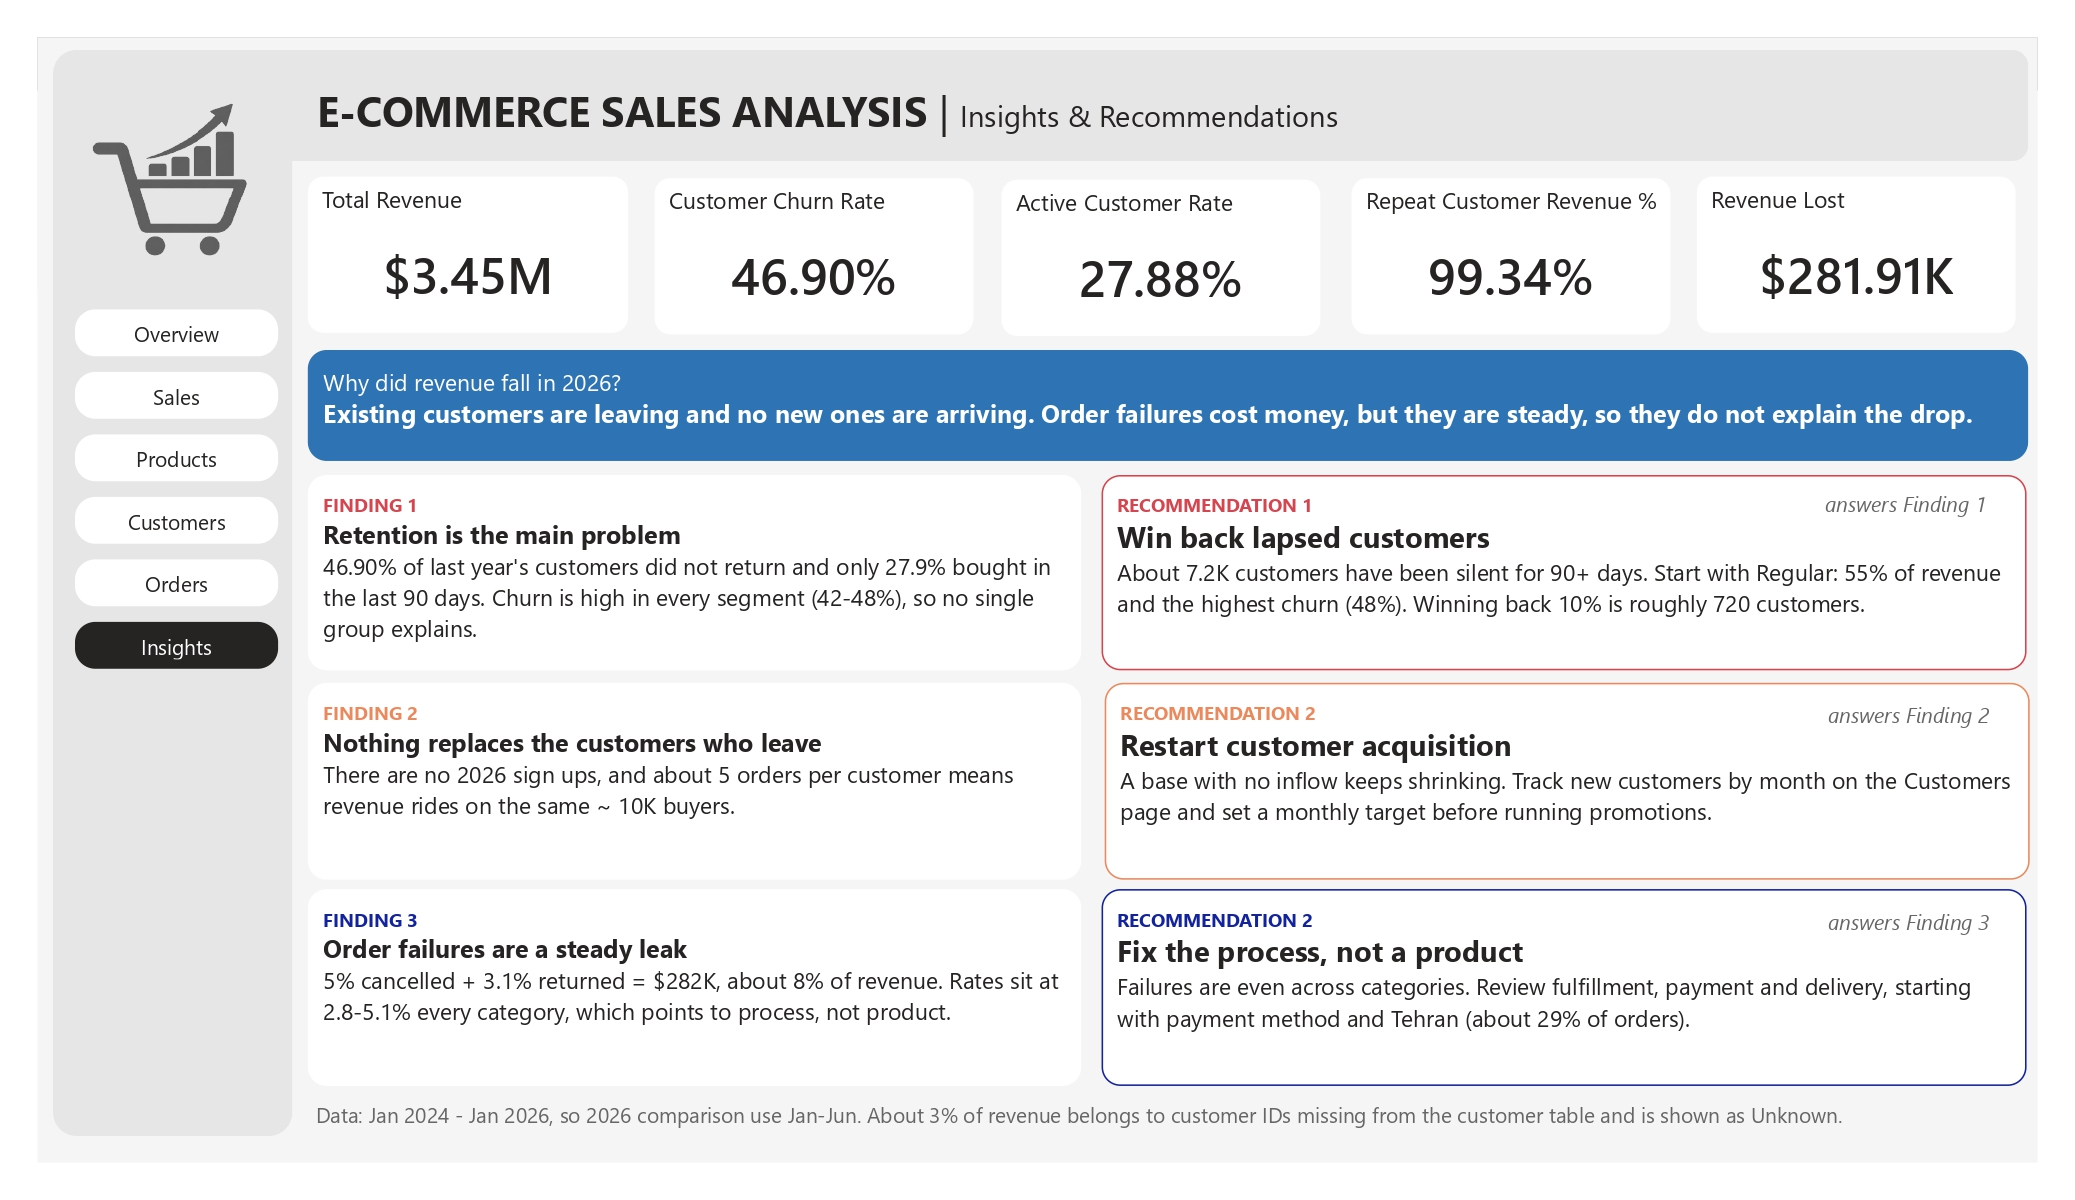

The page's visual inventory and layout, read from the dashboard file:
{"tool":"powerbi","page":{"name":"Insights","canvas":[1280,720],"ordinal":5},"visuals":[{"type":"textbox","box":[138.9,8.3,1134.7,70.8],"z":0},{"type":"cardVisual","title":"Total Revenue","fields":{"Data":["DAX Measure.Total Revenue"]},"box":[173.4,89.3,204.5,100.2],"z":1000},{"type":"shape","box":[9.6,8.2,153.7,694.3],"z":2000},{"type":"pageNavigator","box":[23.6,173.6,130.6,235],"z":3000},{"type":"cardVisual","title":"Customer Churn Rate","fields":{"Data":["DAX Measure.Customer Churn Rate %"]},"box":[394.9,90.4,204.2,100],"z":4000},{"type":"cardVisual","title":"Active Customer Rate","fields":{"Data":["DAX Measure.Active Customer Rate %"]},"box":[616.6,90.7,204.5,100.2],"z":5000},{"type":"cardVisual","title":"Repeat Customer Revenue %","fields":{"Data":["DAX Measure.Repeat Customer Revenue %"]},"box":[840.7,90.4,204.2,100],"z":6000},{"type":"cardVisual","title":"Revenue Lost ","fields":{"Data":["DAX Measure.Revenue Lost"]},"box":[1061.6,89,204.2,100],"z":7000},{"type":"image","box":[12.5,22.2,151.4,133.3],"z":8000},{"type":"textbox","box":[173.1,200.2,1100.7,71.1],"z":9000},{"type":"textbox","box":[173.1,280.3,494.8,125],"z":10000},{"type":"textbox","box":[173.3,545.3,494.7,125.3],"z":11000},{"type":"textbox","box":[173.3,413.3,494.7,125.3],"z":12000},{"type":"textbox","box":[681.3,280,592,125],"z":13000},{"type":"textbox","box":[682.7,413.3,592,125.3],"z":14000},{"type":"textbox","box":[681.3,545.3,592,125.3],"z":15000},{"type":"textbox","box":[173.3,676,1100,37.3],"z":15001},{"type":"textbox","box":[1138.7,285.3,126.7,28],"z":15002},{"type":"textbox","box":[1141.3,420,122.7,30.7],"z":15003},{"type":"textbox","box":[1141.3,552,126.7,28],"z":15004}]}

Visuals, with their boxes on the page's 1280x720 design canvas (x1, y1, x2, y2). These are canvas units, not pixel positions in the 2075x1200 screenshot, which may show the page scaled, cropped or inside an application window:
textbox: (139,8,1274,79)
"Total Revenue" cardVisual: (173,89,378,190)
shape: (10,8,163,702)
pageNavigator: (24,174,154,409)
"Customer Churn Rate" cardVisual: (395,90,599,190)
"Active Customer Rate" cardVisual: (617,91,821,191)
"Repeat Customer Revenue %" cardVisual: (841,90,1045,190)
"Revenue Lost " cardVisual: (1062,89,1266,189)
image: (12,22,164,156)
textbox: (173,200,1274,271)
textbox: (173,280,668,405)
textbox: (173,545,668,671)
textbox: (173,413,668,539)
textbox: (681,280,1273,405)
textbox: (683,413,1275,539)
textbox: (681,545,1273,671)
textbox: (173,676,1273,713)
textbox: (1139,285,1265,313)
textbox: (1141,420,1264,451)
textbox: (1141,552,1268,580)
